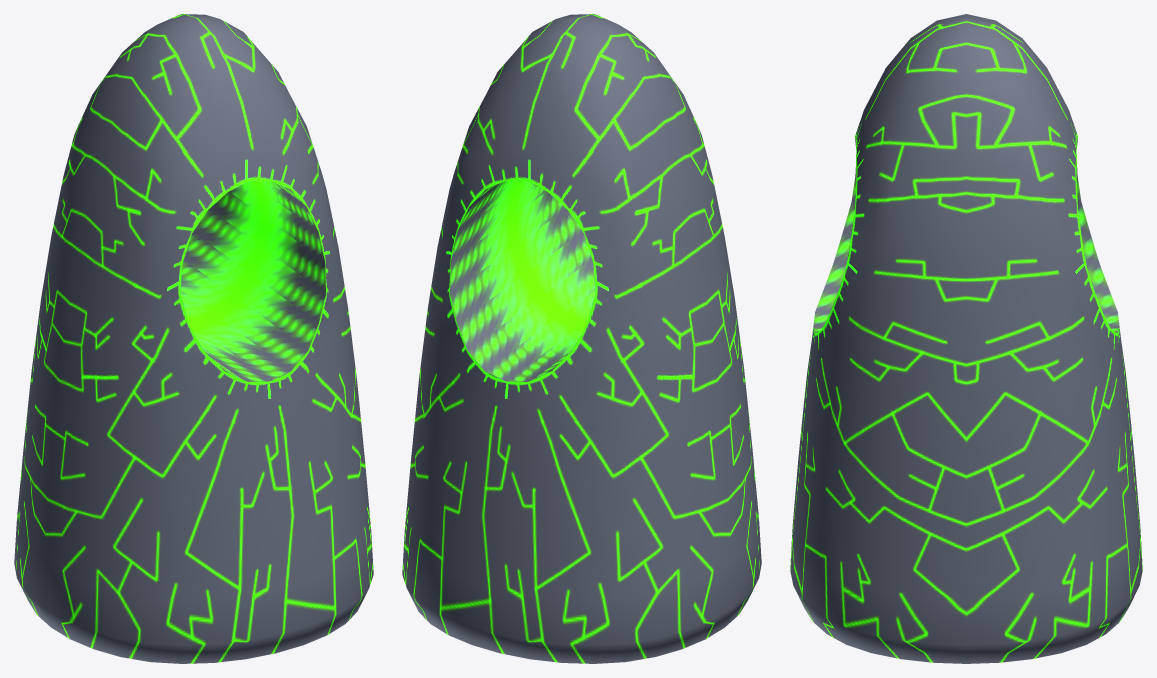
The model's file is MiniMonolith.fbx.
3 renders of one model, left to right at view 1: azimuth 30°, elevation 25°; view 2: azimuth 150°, elevation 25°; view 3: azimuth 270°, elevation 25°, orthographic.
Visible parts, largest first — view 1: pCube8; view 2: pCube8; view 3: pCube8.
Boxes of the visible parts, x1,y1,x2,y2 form: pCube8: (14,14,373,663); pCube8: (402,14,761,663); pCube8: (790,14,1142,663).
Size of the model in its own units: 29.1 by 56.24 by 29.09.
